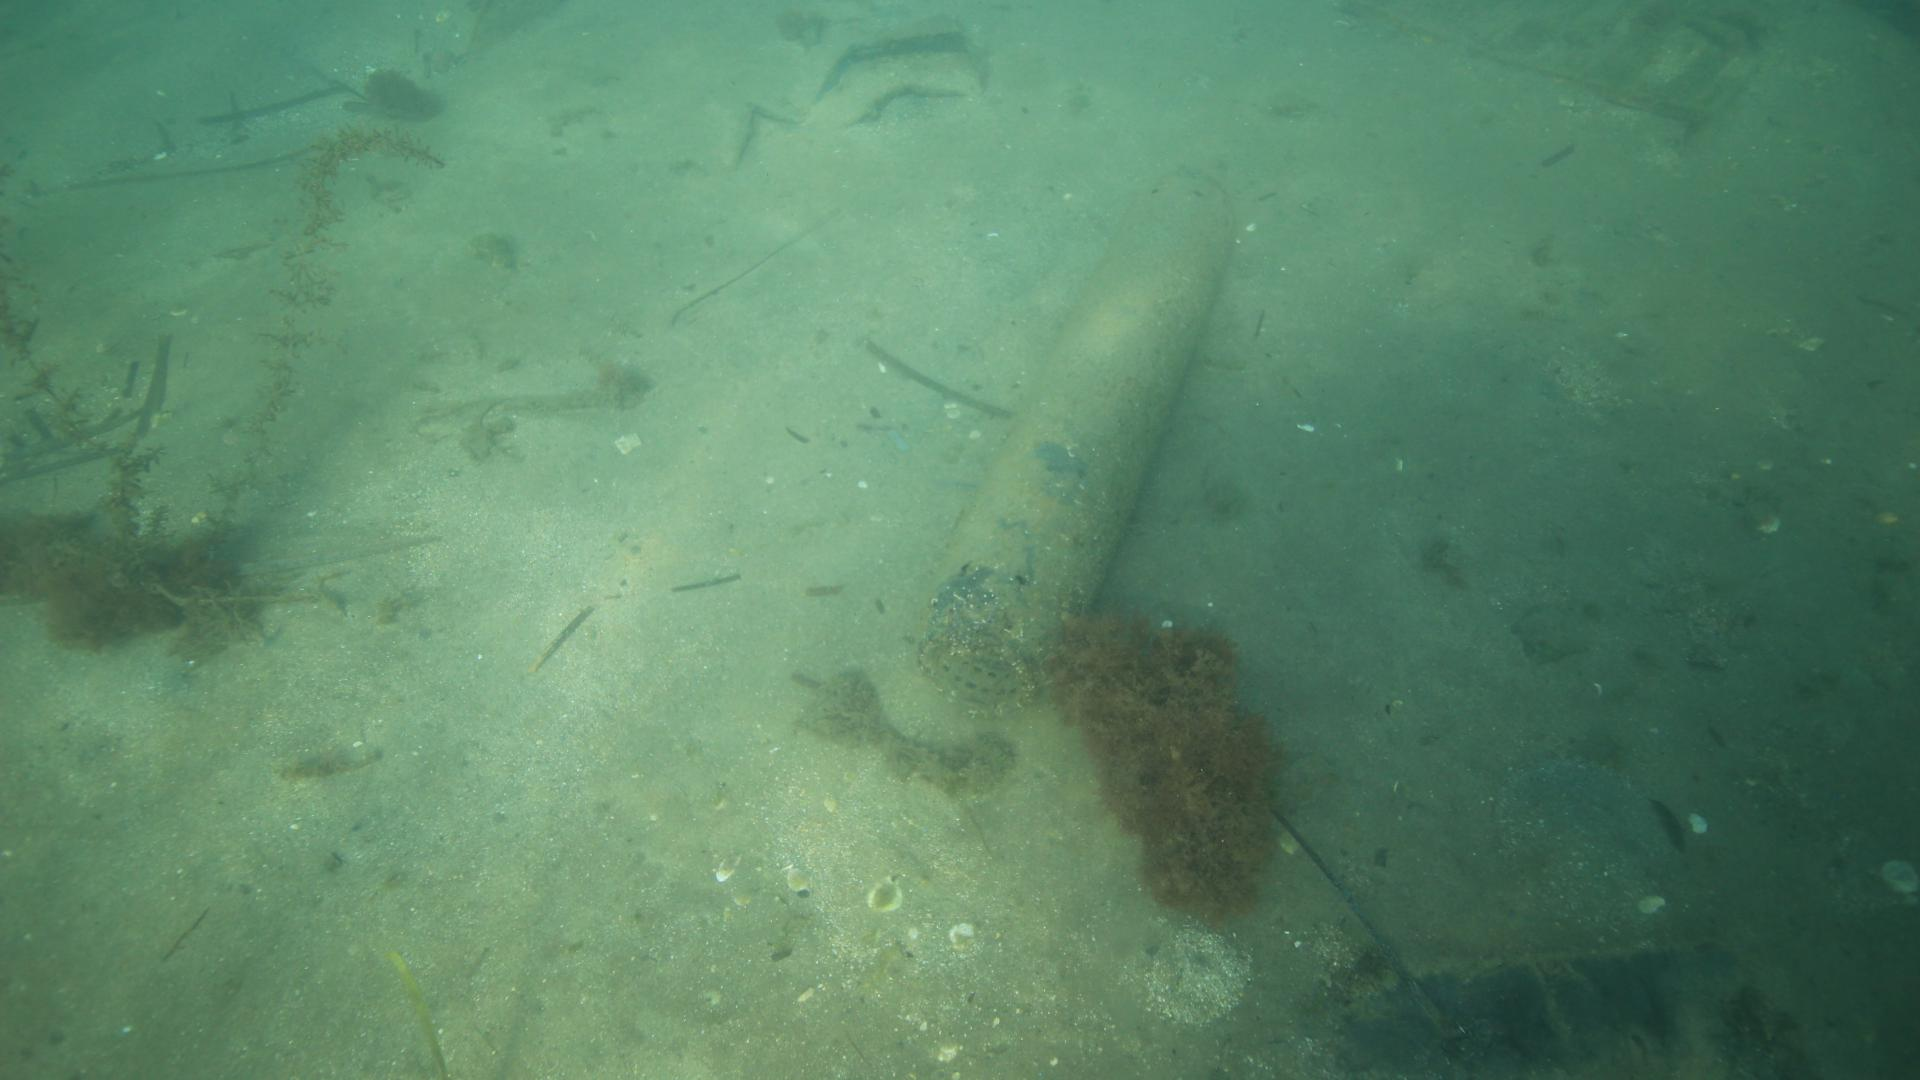eel fish trap: (905, 164, 1240, 705)
